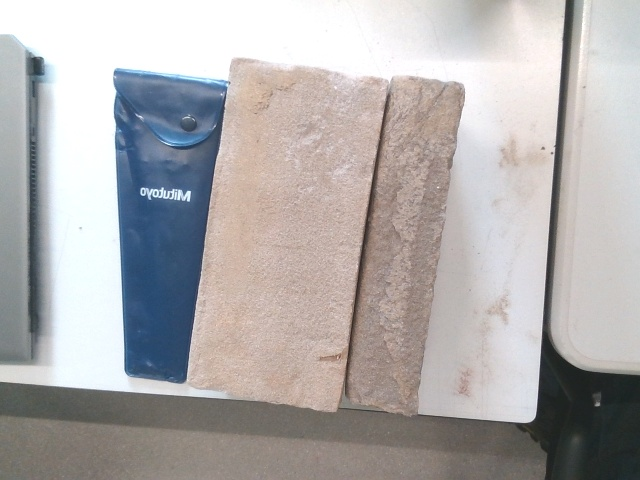brick: (187, 60, 385, 408)
